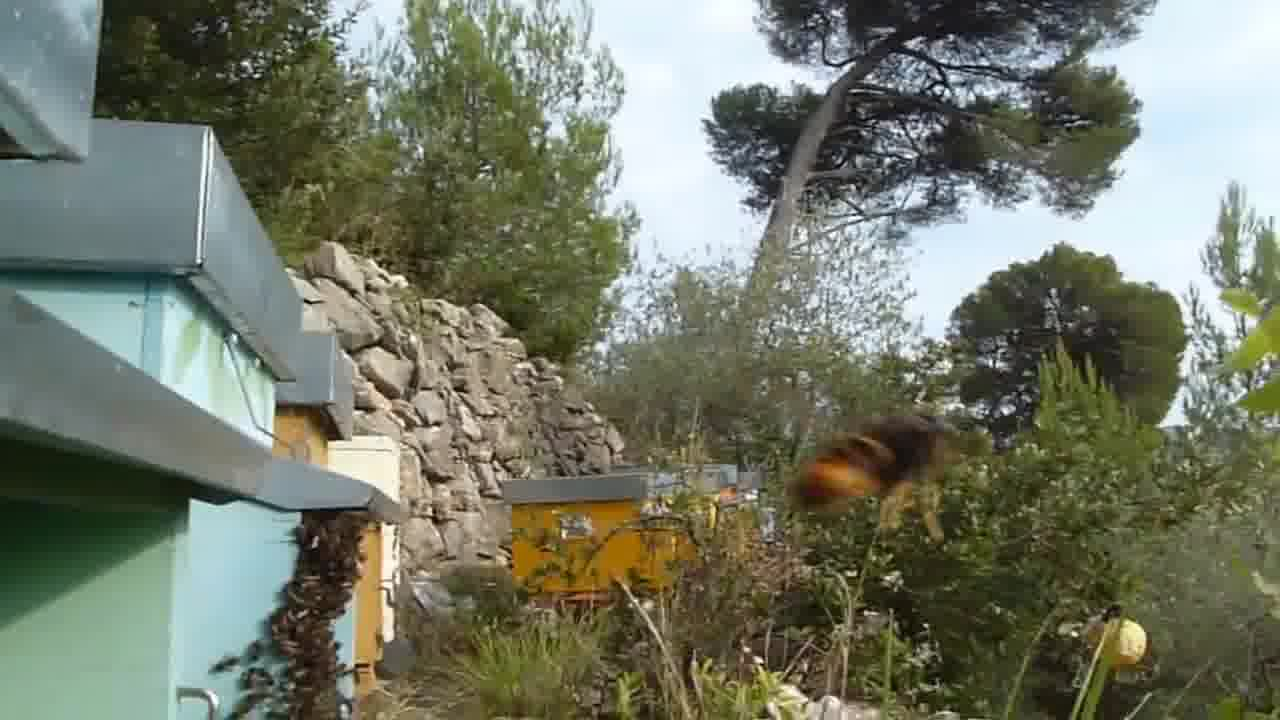bee: (285, 506, 370, 598), (227, 661, 339, 720), (260, 603, 348, 666)
hornet: (784, 409, 964, 530)
